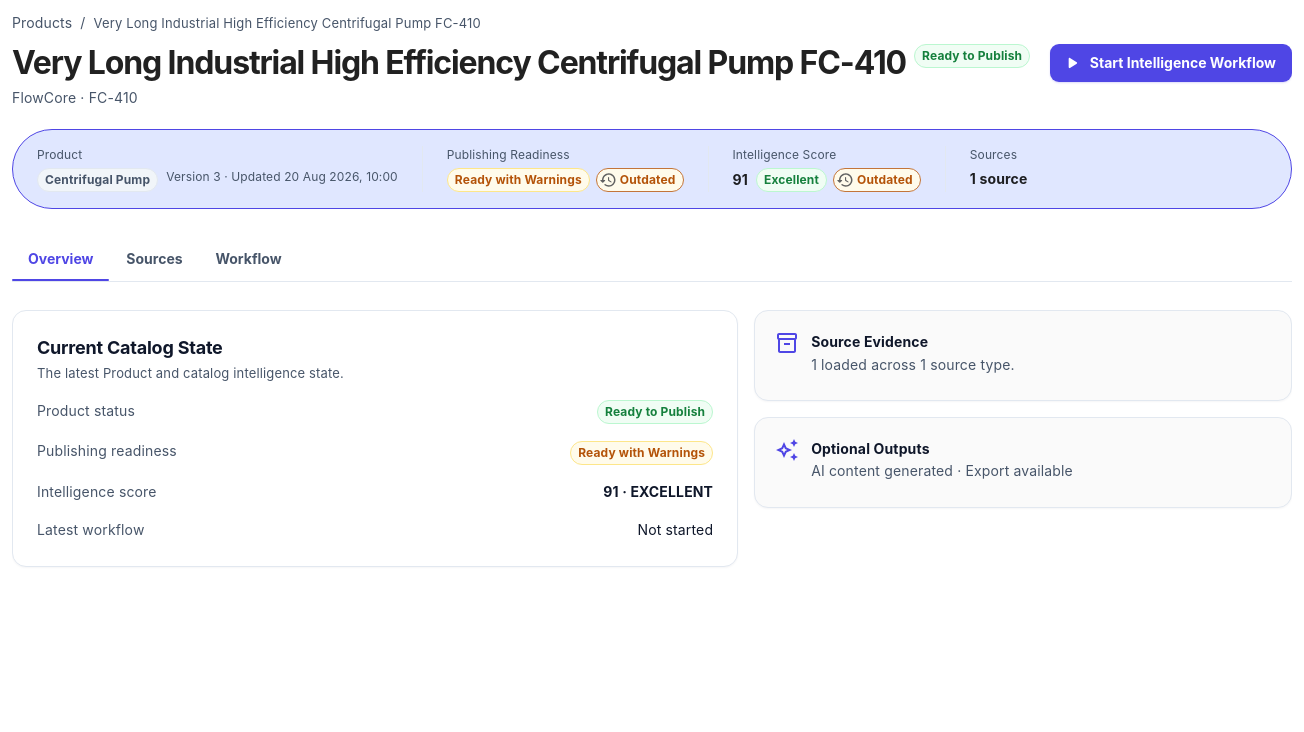
Test: Product Workspace › renders real Product identity, catalog summaries, navigation, and sources
This screenshot has width=1304, height=732.
Expected: the heading "Very Long Industrial High Efficiency Centrifugal Pump FC-410" is shown, [12,44,906,83]
Expected: the text "FlowCore · FC-410" is shown, [12,89,138,106]
Step 1. Click the tab "Sources" → (154, 259), box [109,237,199,281]
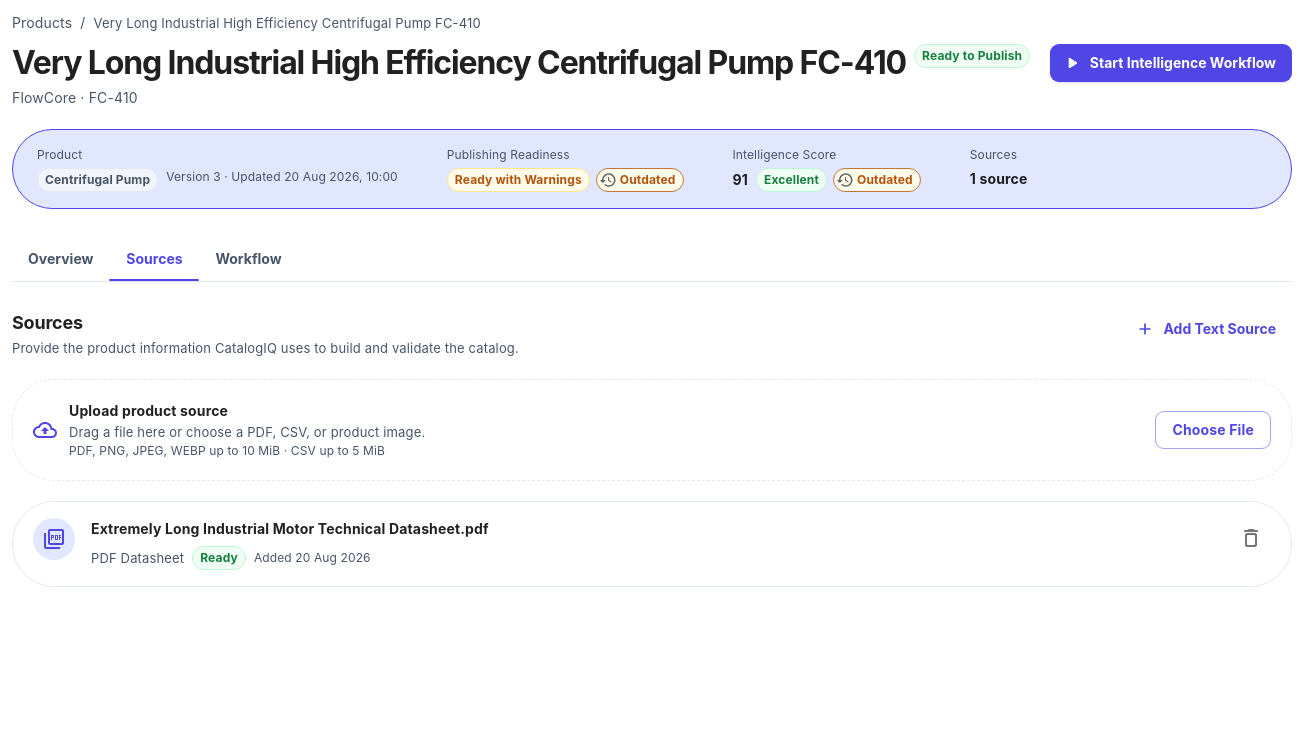
Expected: the text "Extremely Long Industrial Motor Technical Datasheet.pdf" is shown, [91,520,489,537]
Expected: the text "PDF Datasheet" is shown, [91,548,184,568]
